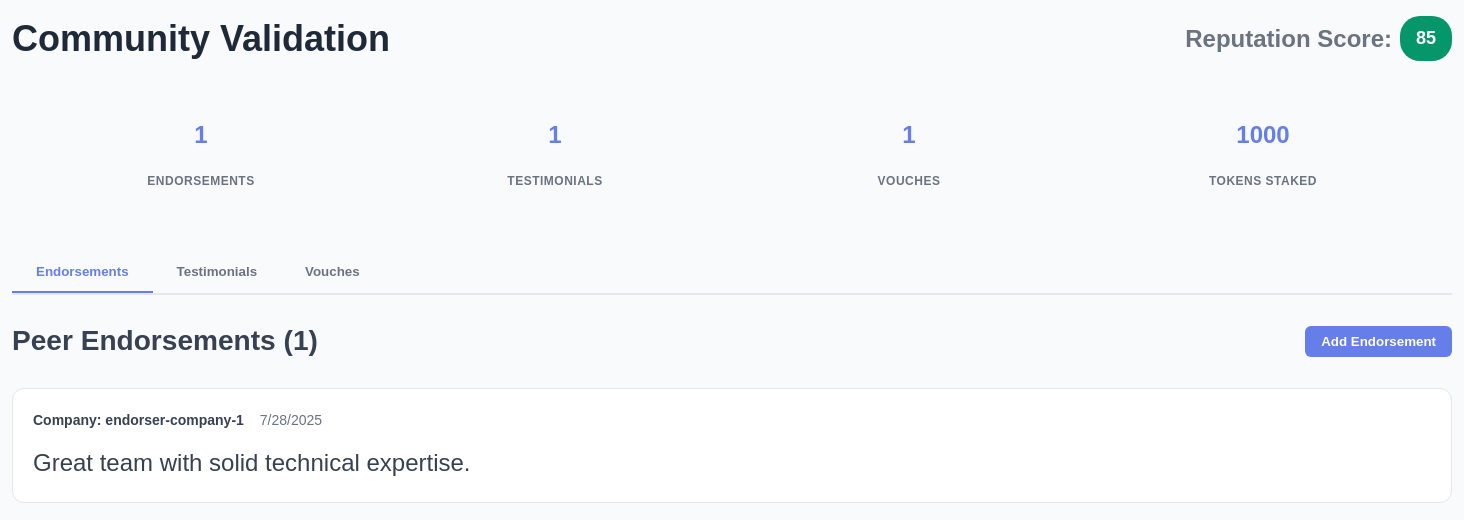
Scenario: CommunityValidation › Testimonials Tab › should render existing testimonials with verification status
What coordinates should you click on to do the following:
click the button "Testimonials"
I would click on:
 (217, 273)
Its box is [153,252,281,293].
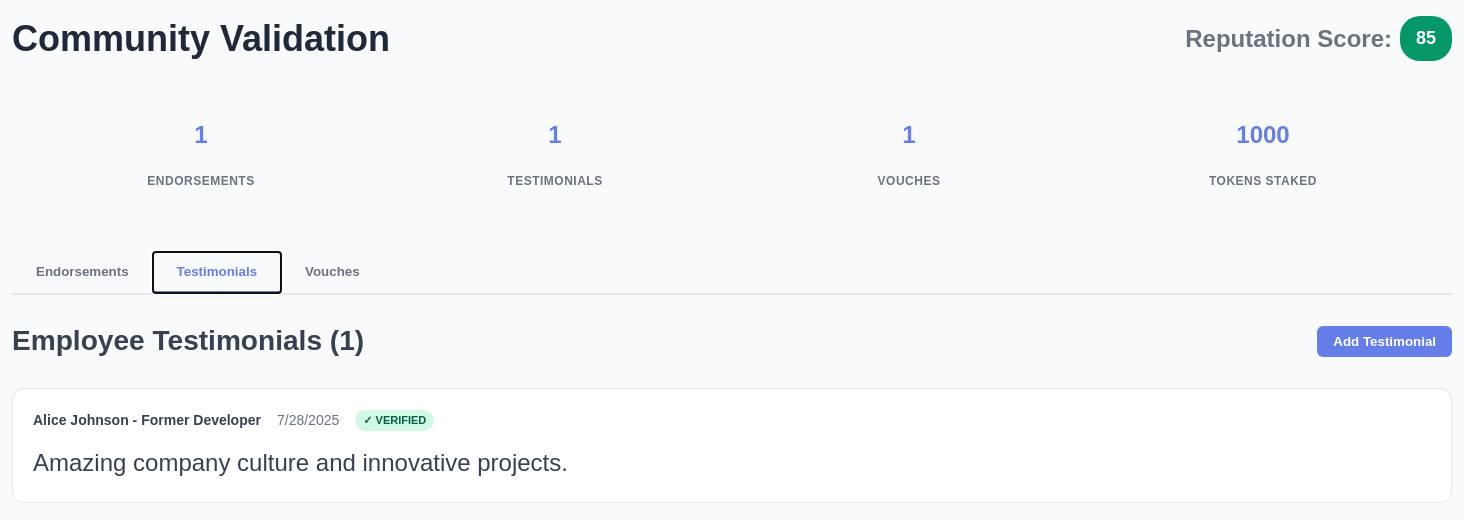
expect the text "Amazing company culture and innovative projects." is shown: met, box [33,449,568,476]
expect the text "✓ Verified" is shown: met, box [355,410,434,431]
